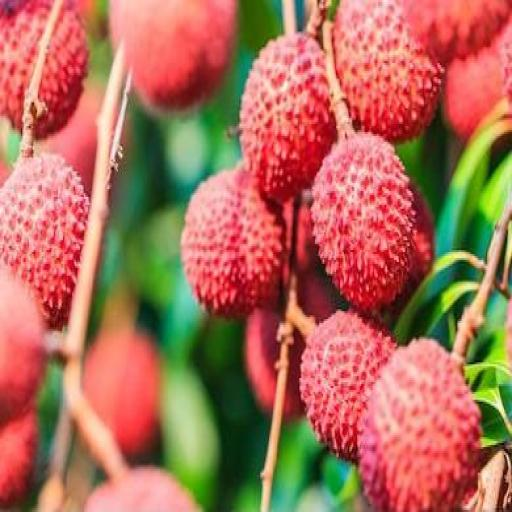lychee: (360, 339, 480, 511), (312, 132, 414, 309), (241, 34, 336, 202), (0, 154, 89, 328), (182, 166, 284, 317), (334, 0, 442, 141), (301, 312, 395, 460), (109, 0, 236, 108), (85, 331, 160, 456), (400, 0, 511, 63), (0, 268, 45, 423), (0, 0, 52, 129), (385, 184, 434, 319), (45, 83, 102, 194), (446, 38, 504, 139), (85, 467, 199, 511), (0, 408, 38, 508), (245, 310, 279, 413), (284, 201, 319, 273), (410, 184, 434, 285), (501, 22, 511, 108), (506, 300, 511, 368), (0, 160, 9, 187)
